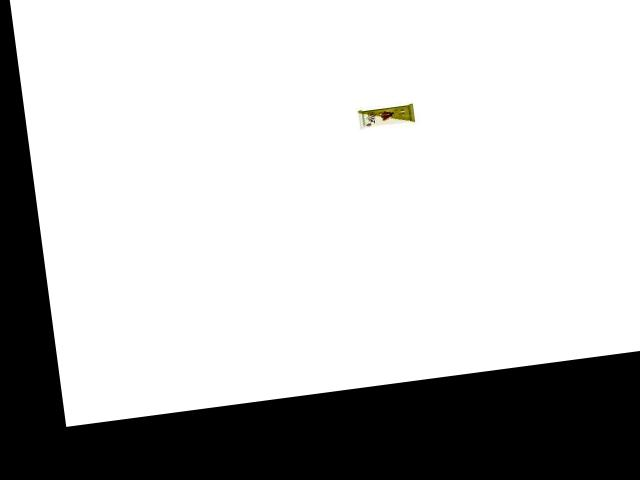chocolate: (353, 97, 418, 133)
